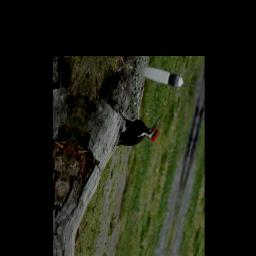Woodpecker: (114, 106, 164, 159)
